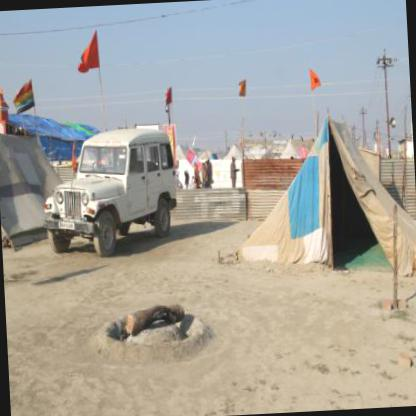car: (36, 122, 173, 256)
